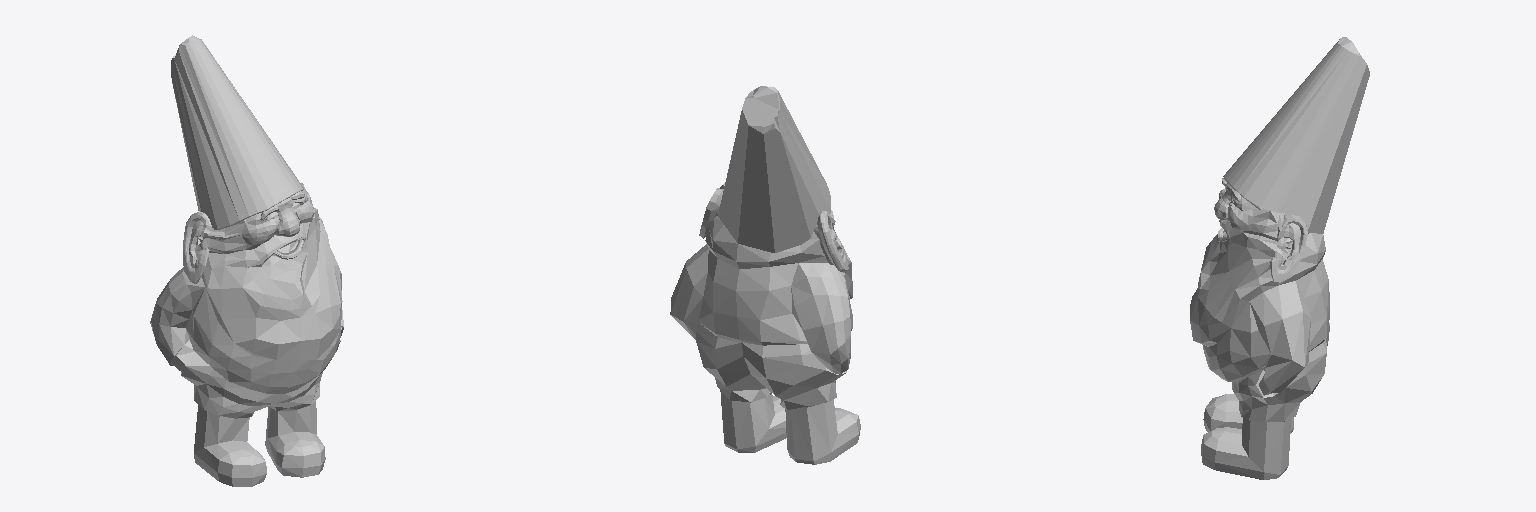
The model's file is gnome.obj.
3 views of the same model, side by side, from view 1: azimuth 30°, elevation 25°; view 2: azimuth 150°, elevation 25°; view 3: azimuth 270°, elevation 25° (orthographic).
Size of the model in its own units: 16.1 by 34.13 by 13.9.